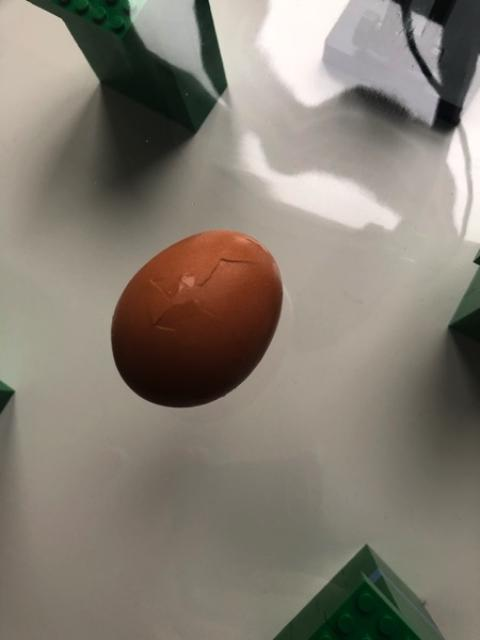Roto: (110, 228, 284, 409)
